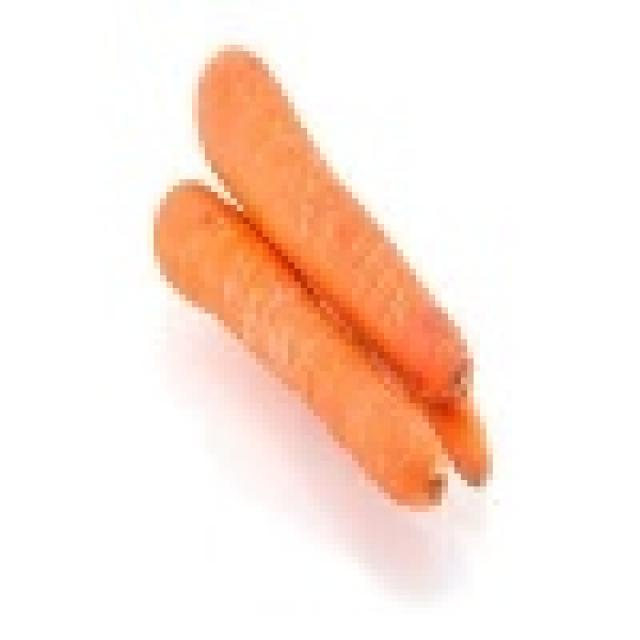Stale_Carrot: (164, 185, 445, 506)
